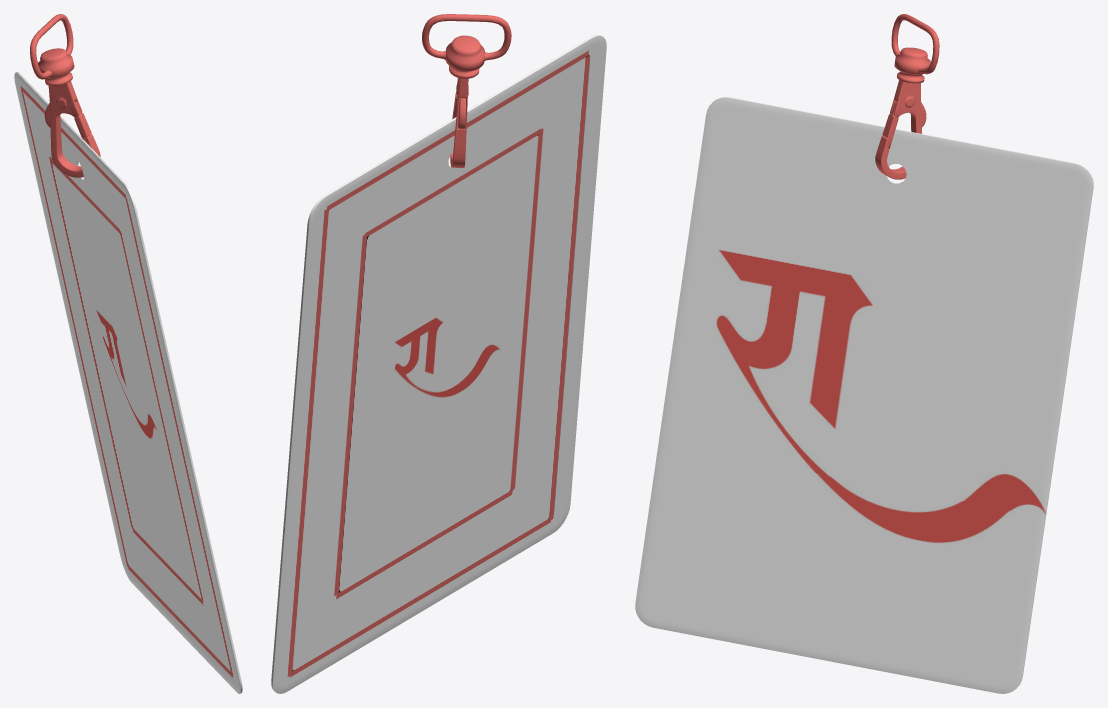
Rendered from card.glb.
3 views of the same model, side by side, from view 1: azimuth 30°, elevation 25°; view 2: azimuth 150°, elevation 25°; view 3: azimuth 270°, elevation 25° (orthographic). The views are drawn at different scales.
Visible parts, largest first — view 1: card, clamp, clip; view 2: card, clip, clamp; view 3: card, clamp, clip.
Part boxes in pixels (<box>): card: <box>14,72,242,693</box>; clamp: <box>44,81,100,177</box>; clip: <box>30,14,74,86</box>; card: <box>271,34,606,693</box>; clip: <box>422,14,511,78</box>; clamp: <box>450,78,468,167</box>; card: <box>635,97,1093,693</box>; clamp: <box>875,80,926,179</box>; clip: <box>891,14,939,83</box>.
Bounding box in the file's own units: 0.3201 × 1.21 × 0.8234.
2 materials, 1 textured.
